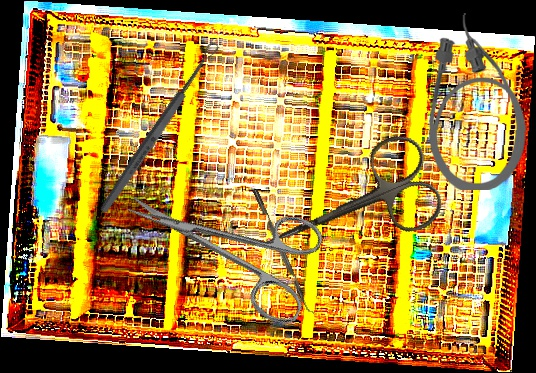Cannula: (426, 12, 529, 191)
Chopper: (252, 186, 318, 317)
Iris Scissors: (109, 151, 336, 330), (245, 128, 450, 287)
Surgical Spoon: (97, 39, 222, 216)
